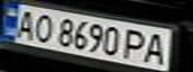0: (103, 24, 124, 57)
6: (69, 19, 90, 51)
8: (51, 16, 75, 48)
9: (84, 21, 106, 55)
A: (139, 30, 175, 65), (9, 7, 42, 39)
O: (30, 11, 57, 43)
P: (121, 27, 151, 62)
